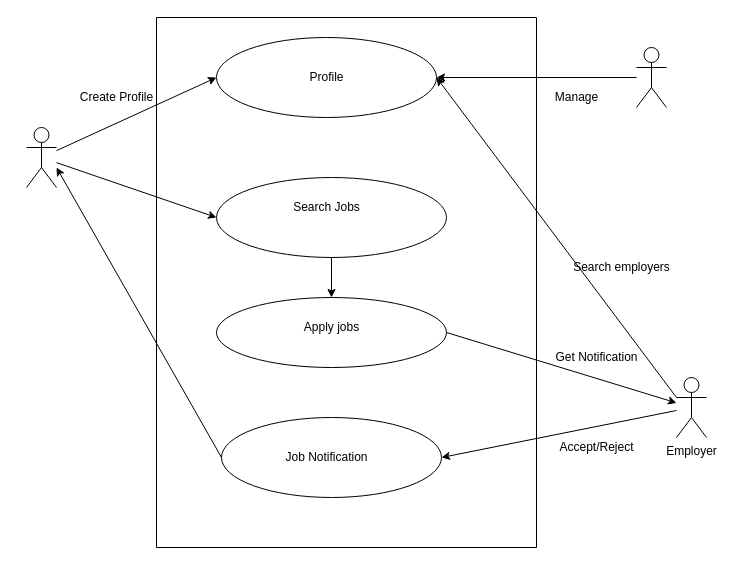
This 734x565 diagram has some shape labels left out. Here are the shapes that lost their labels. From the top down, the centre of each, then its label:
[651,77]: Admin
[41,157]: Applicant
